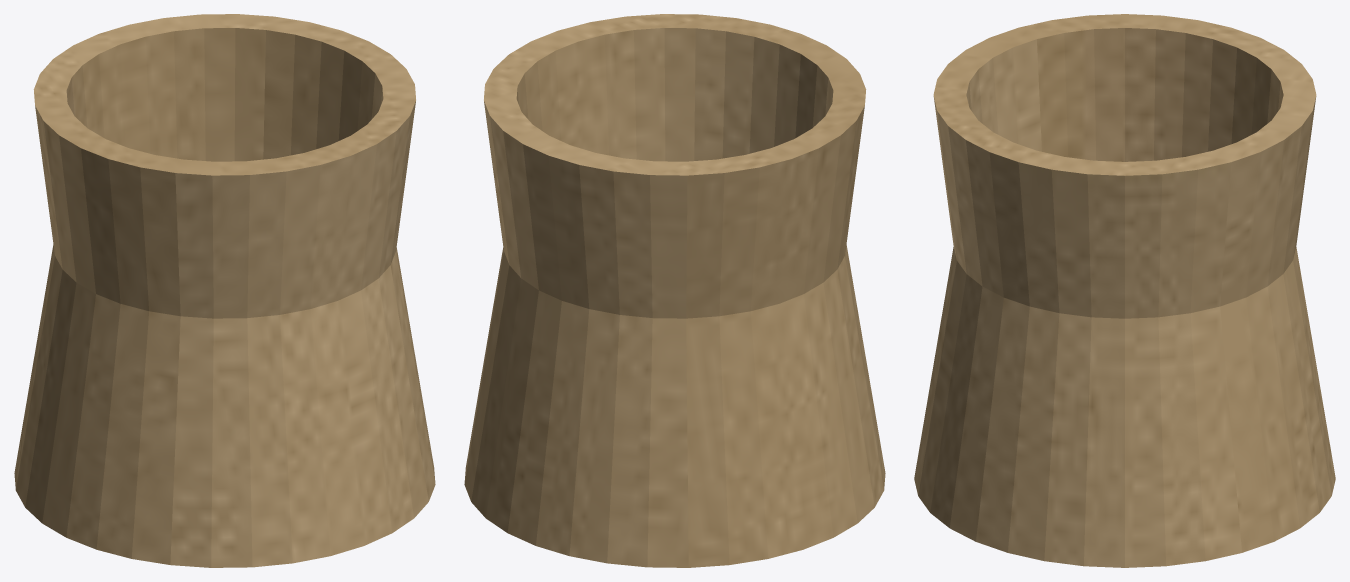
The model's file is fireField.fbx.
3 views of the same model, side by side, from view 1: azimuth 30°, elevation 25°; view 2: azimuth 150°, elevation 25°; view 3: azimuth 270°, elevation 25° (orthographic).
Visible parts, largest first — view 1: 圓柱體; view 2: 圓柱體; view 3: 圓柱體.
Part boxes in pixels (<box>): 圓柱體: <box>14,14,435,567</box>; 圓柱體: <box>464,14,885,567</box>; 圓柱體: <box>914,14,1335,567</box>.
Size of the model in its own units: 271 by 272 by 271.
1 material, 1 textured.
